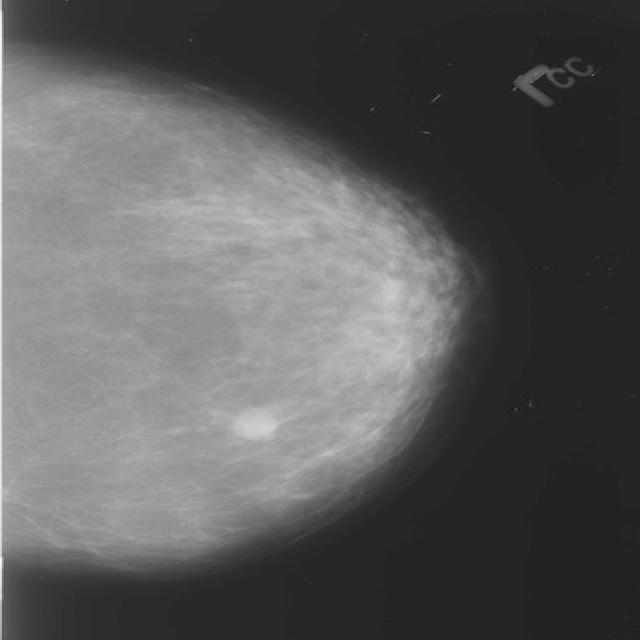tumour: (228, 408, 276, 440)
